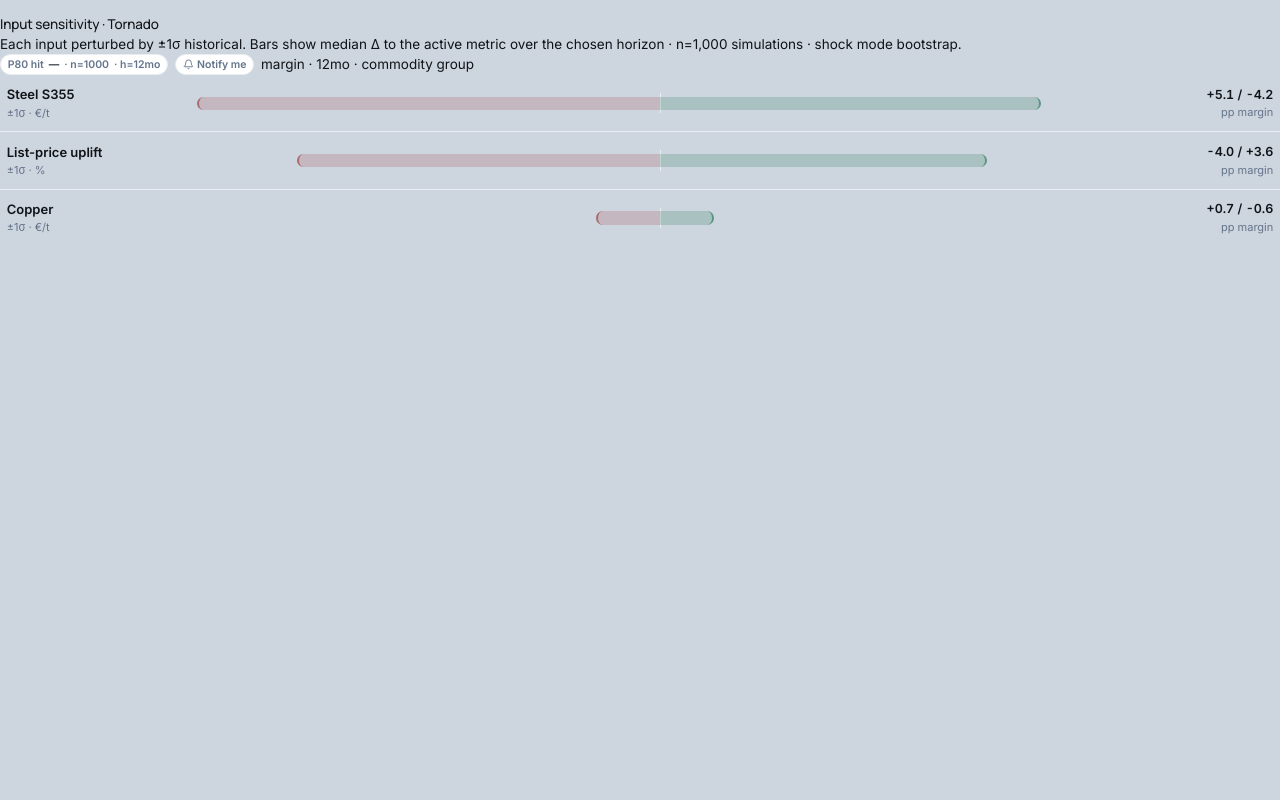
it: TornadoCard (Phase 1) › clicking a bar opens the drawer with per-cluster breakdown
Click the button with test id "tornado-bar-Steel S355". click: (640, 103)
box: [0,75,1279,131]
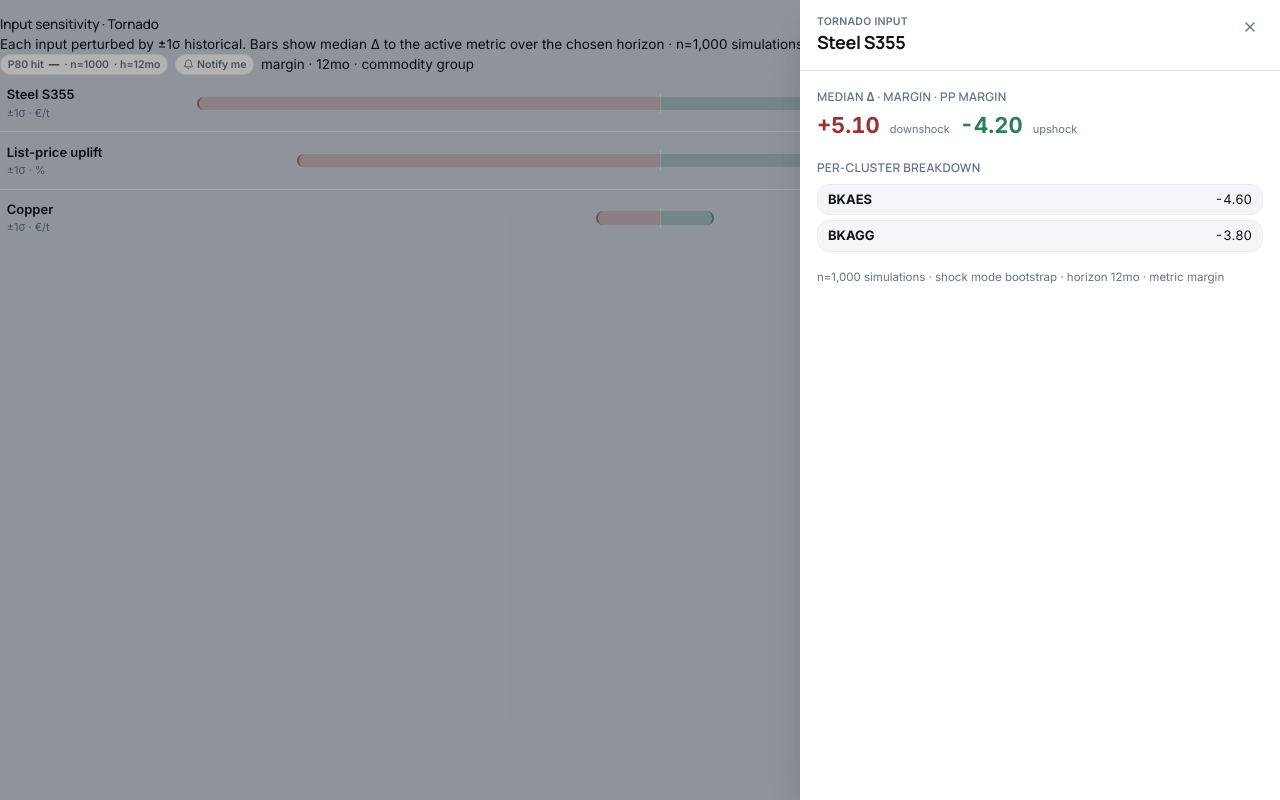
Result: the heading "Per-cluster breakdown" is shown at [817,159,980,176]
Result: the text "BKAES" is shown at [828,190,872,209]
Result: the text "BKAGG" is shown at [828,226,875,246]
